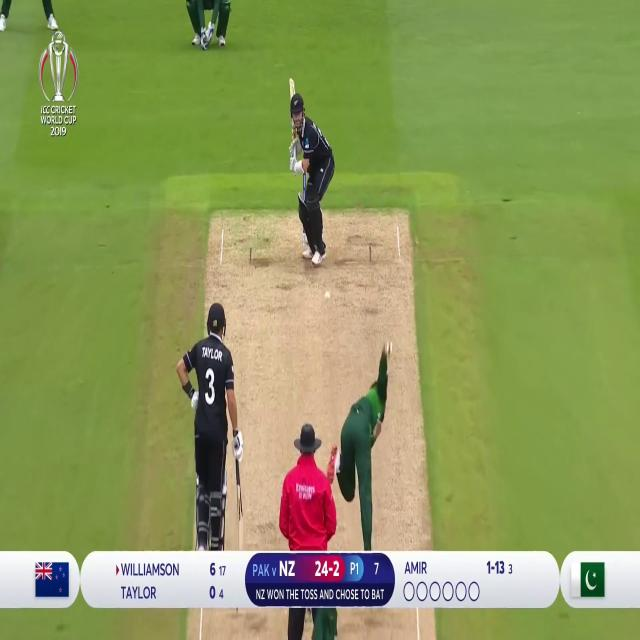bat: (288, 75, 295, 141), (237, 485, 244, 551)
toe: (289, 77, 296, 82)
